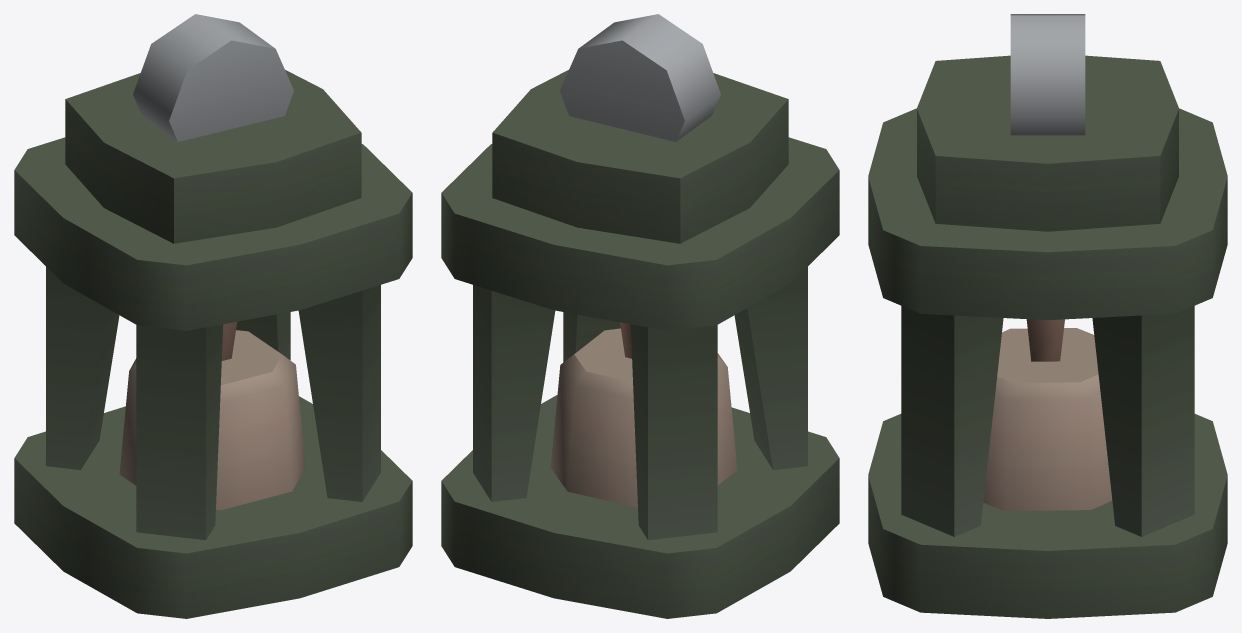
File: lantern-candle.glb
The picture shows the model from 3 angles, left to right: view 1: azimuth 30°, elevation 25°; view 2: azimuth 150°, elevation 25°; view 3: azimuth 270°, elevation 25°; orthographic projection. The views are drawn at different scales.
Parts seen in each view (by area): view 1: lantern-candle; view 2: lantern-candle; view 3: lantern-candle.
Part boxes in pixels (x1,y1,x2,y2): lantern-candle: [14, 14, 412, 618]; lantern-candle: [441, 14, 839, 618]; lantern-candle: [868, 14, 1227, 618].
Bounding box in the file's own units: 0.36 × 0.5815 × 0.36.
Materials: 1 (1 with a texture image).
